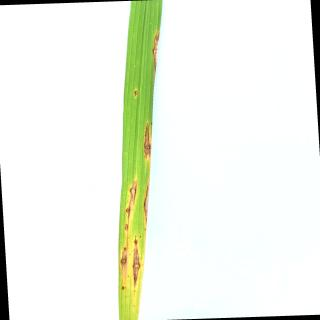Blast: (140, 124, 154, 158), (132, 242, 141, 287), (120, 246, 129, 278), (126, 181, 138, 204), (143, 182, 149, 224), (152, 34, 159, 70), (125, 206, 132, 220), (132, 89, 142, 98)
